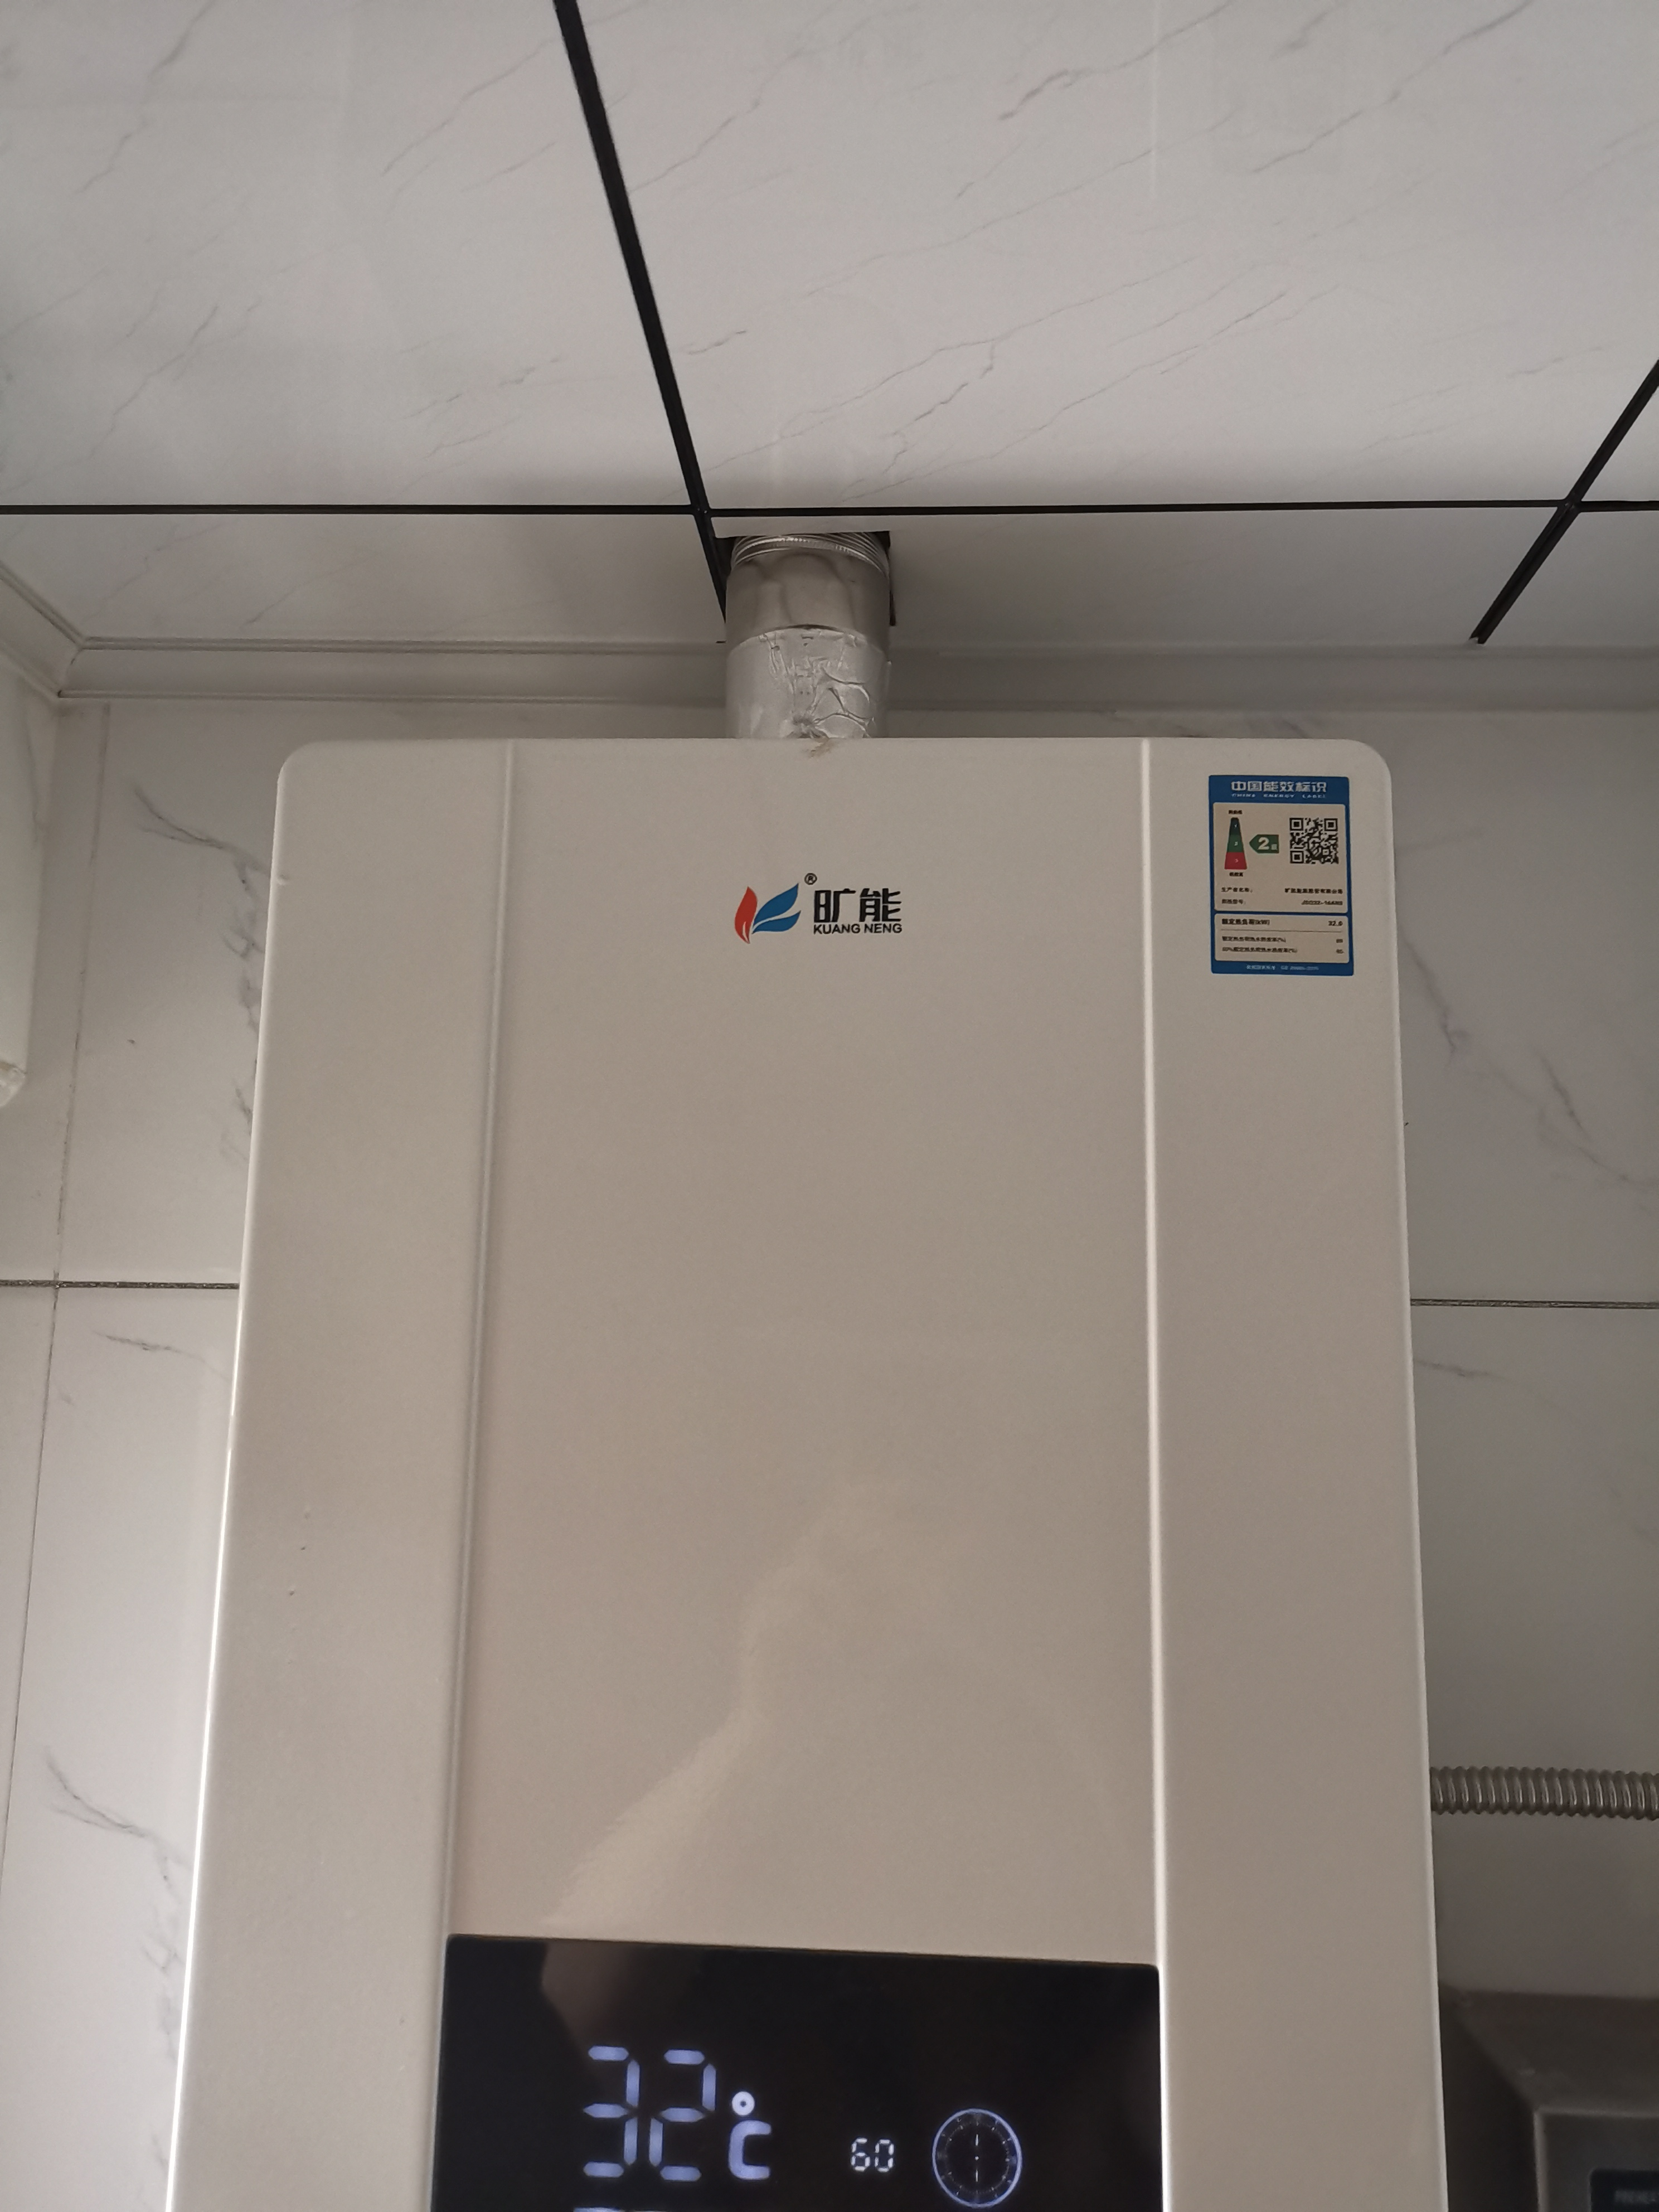loudou: (713, 853, 920, 946)
